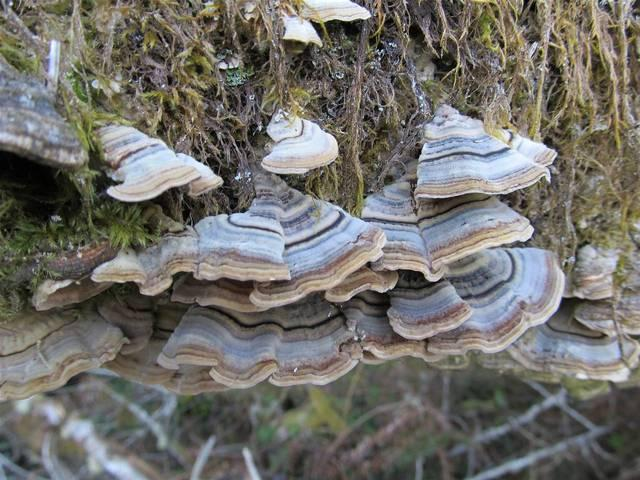poisonous_mushroom: (110, 95, 640, 442), (0, 51, 89, 171), (93, 121, 222, 203), (259, 106, 339, 175)
